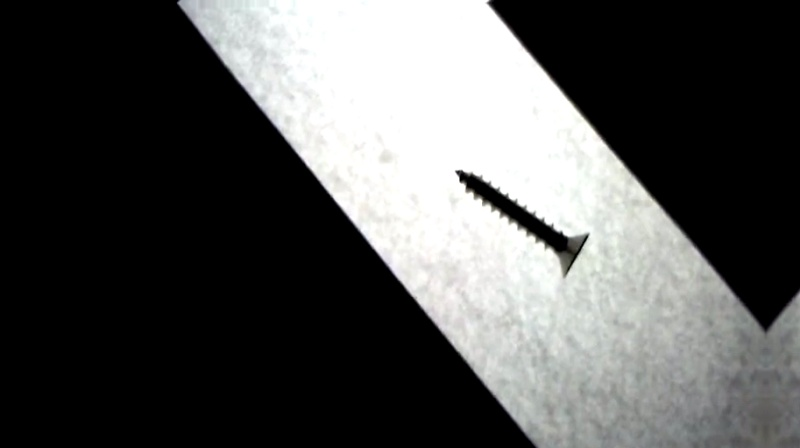S001: (451, 165, 594, 281)
